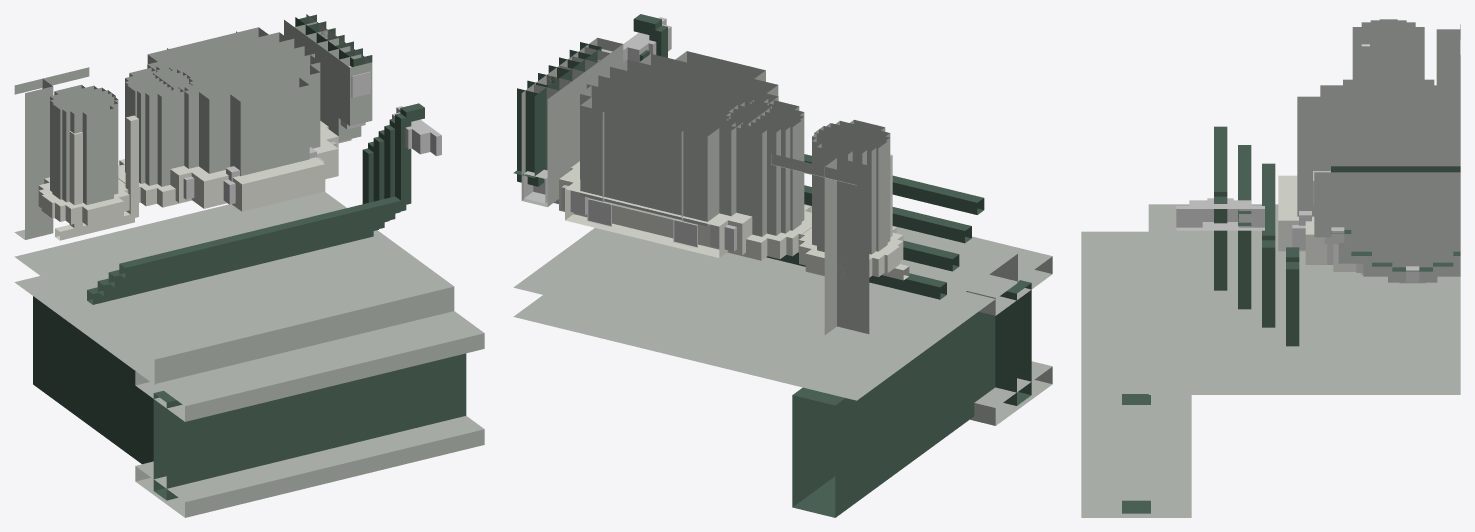
File: cell_10.obj
3 renders of one model, left to right at view 1: azimuth 30°, elevation 25°; view 2: azimuth 150°, elevation 25°; view 3: azimuth 270°, elevation 25°, orthographic. The views are drawn at different scales.
Size of the model in its own units: 1 by 0.9812 by 0.9875.
